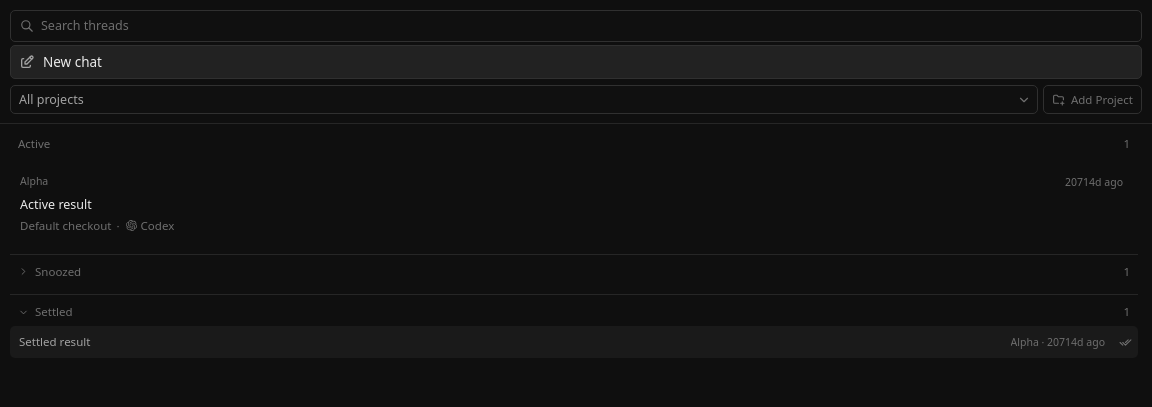
InboxSidebar › searches titles across collapsed lifecycle shelves without changing their order
Expected: the text "Snoozed result" is not shown
In the field labelled "Search threads": (586, 26) x1=41 y1=16 x2=1132 y2=36, type "result"
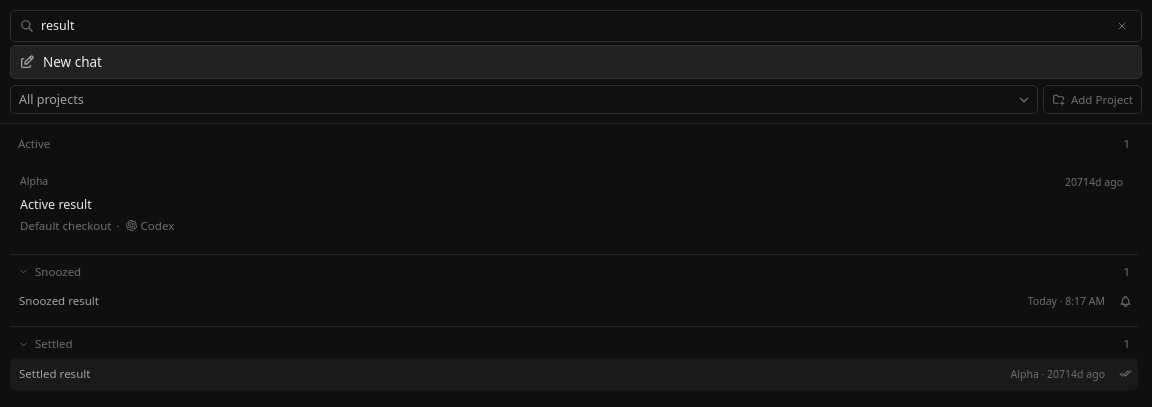
Press ArrowDown in the field named "Search threads", box x1=41 y1=16 x2=1105 y2=36
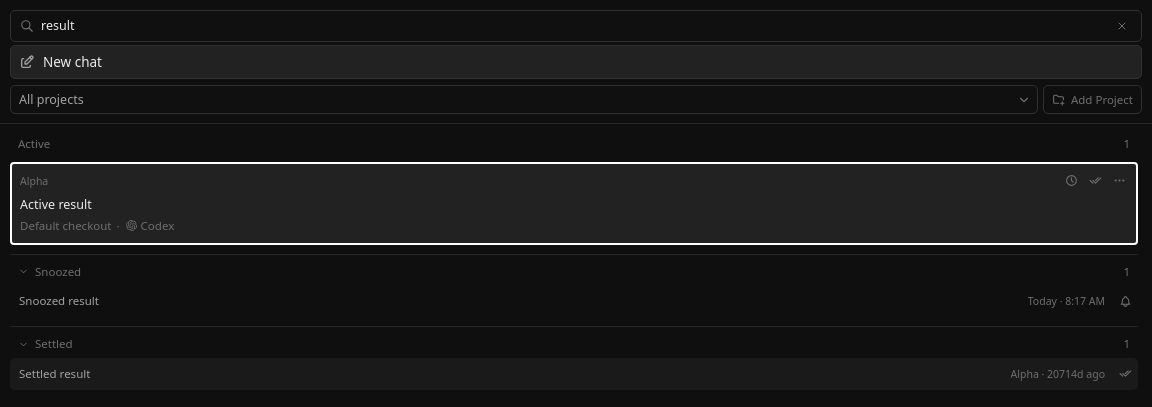
Press ArrowDown in the button "Active result", box x1=11 y1=163 x2=1137 y2=244
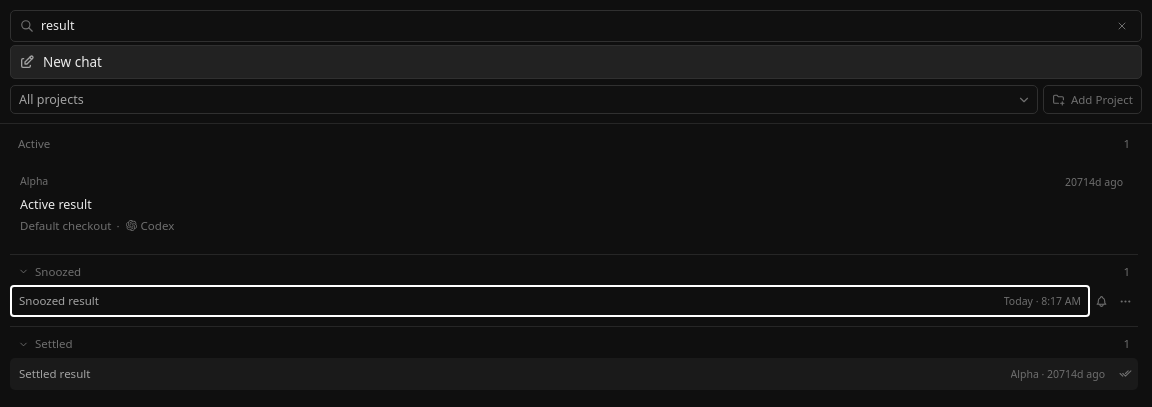
Replace the text in the field named "Search threads" with "active": (573, 26) x1=41 y1=16 x2=1105 y2=36
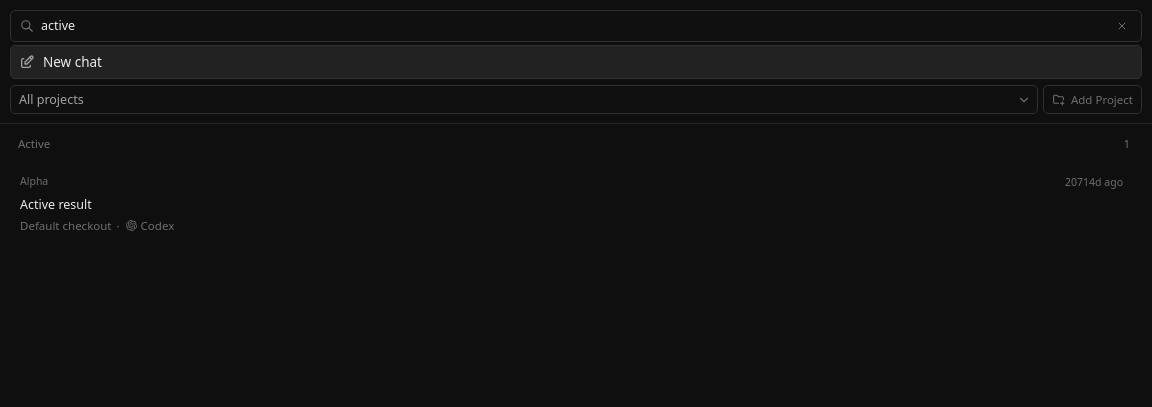
Expected: the text "Active result" is shown, x1=20 y1=196 x2=92 y2=213
Expected: the button "Snoozed result" is gone
Expected: the button "Settled result" is gone
